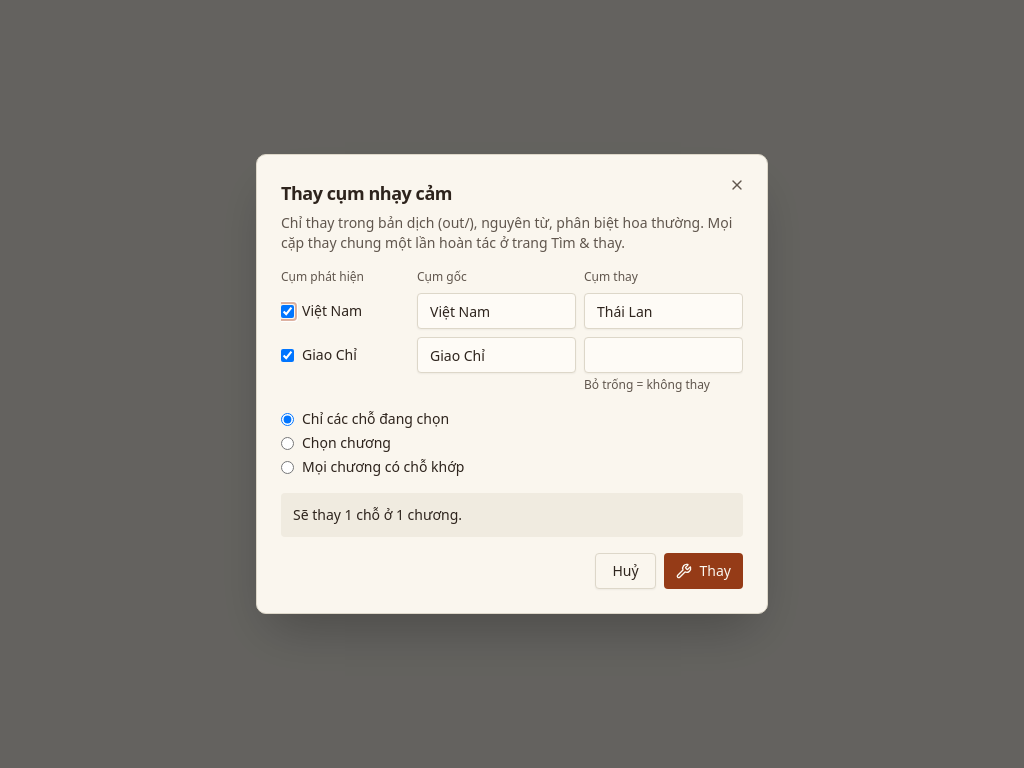
VnReplaceDialog › Cụm thay trống thì dòng đó không thay, có nhắc; mọi dòng trống thì khoá nút Thay
Expected: the field showing "Thái Lan" is shown, [584,293,743,329]
Expected: the text "Bỏ trống = không thay" is shown, [584,376,710,393]
Click the button "Thay": coordinates (703, 571) [664,553,743,589]
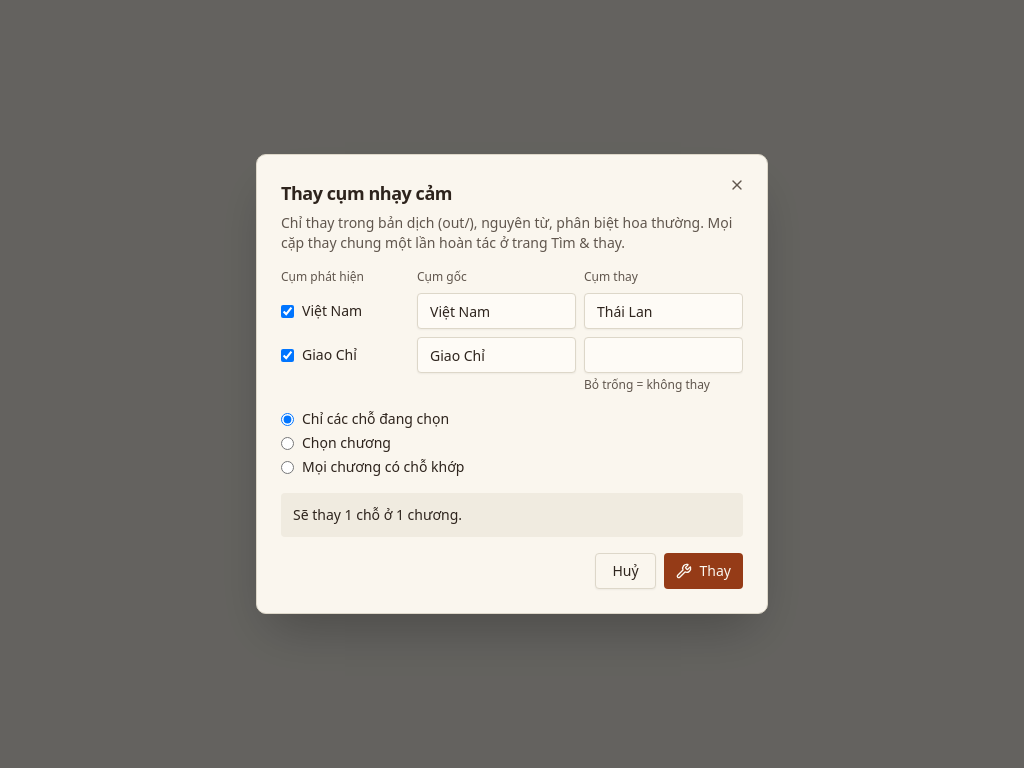
Clear the field named "Cụm thay 1": coordinates (664, 311) [584,293,743,329]
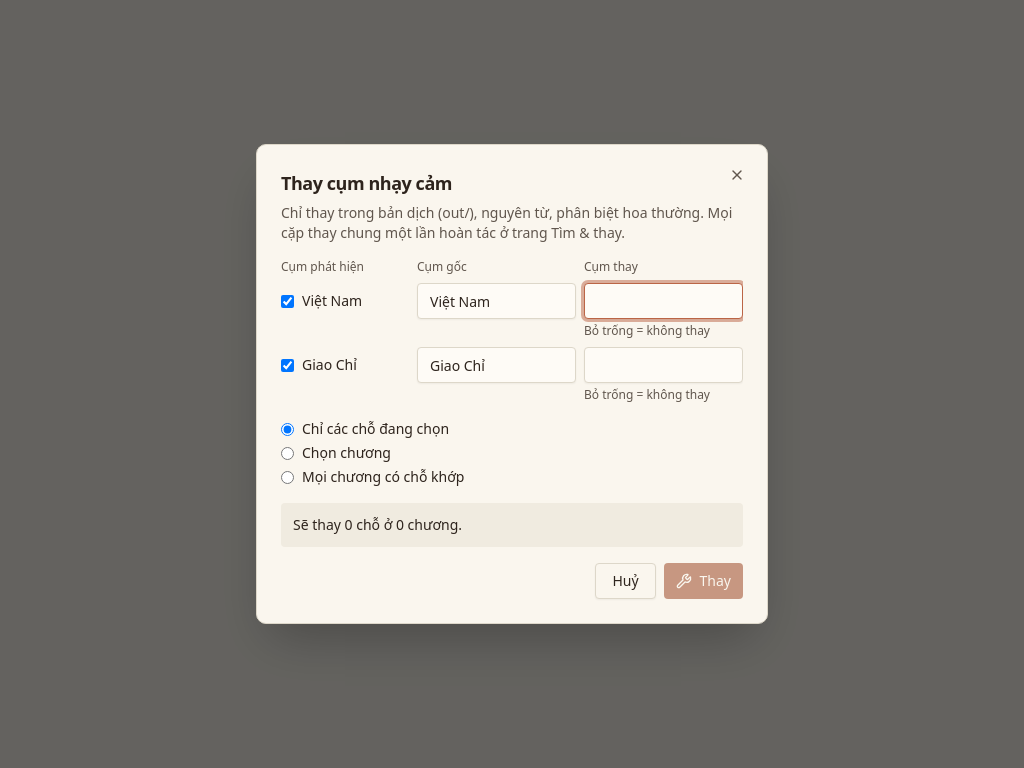
Result: the text "Bỏ trống = không thay" is shown 2 times at [584,322,710,339]; [584,386,710,403]
Result: the button "Thay" is disabled at [664,563,743,599]
